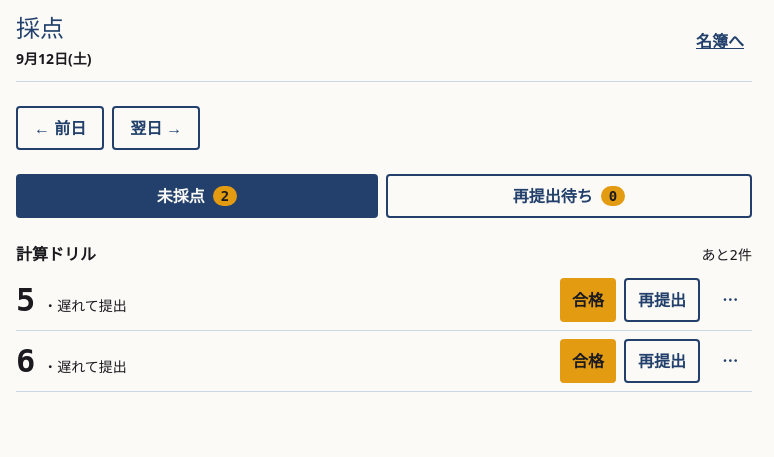
it: 採点画面 › 別の行の「⋯」を押すと前の行の「提出を取り消す」が閉じる
Click the button named "8月24日(月)の5番（計算ドリル）のその他の操作" at (730, 300), box x1=708 y1=278 x2=752 y2=322
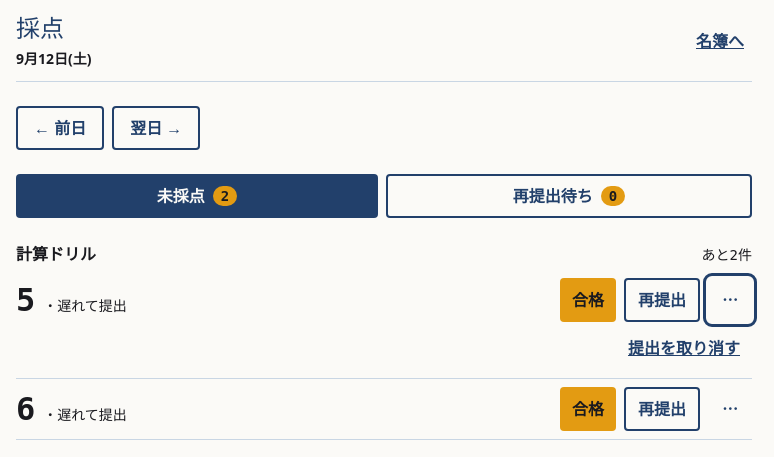
Expected: the button with aria-label "8月24日(月)の5番（計算ドリル）の提出を取り消す" is shown, x1=616 y1=326 x2=752 y2=370
Click the button named "8月24日(月)の6番（計算ドリル）のその他の操作" at (730, 409), box x1=708 y1=387 x2=752 y2=431
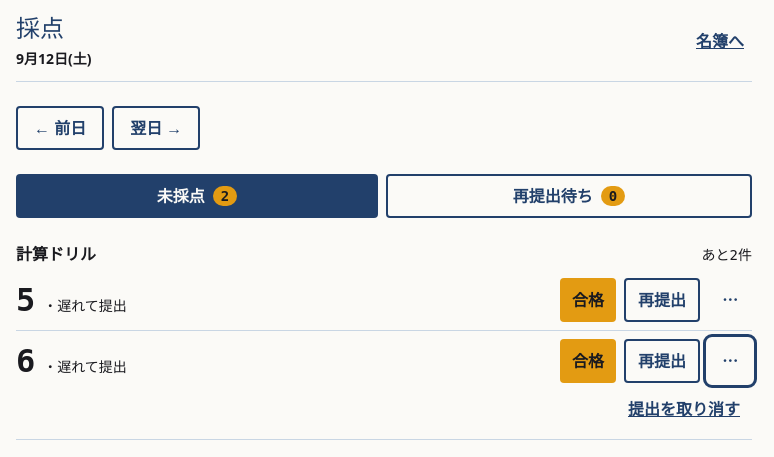
Expected: the button "8月24日(月)の5番（計算ドリル）の提出を取り消す" is gone
Expected: the button with aria-label "8月24日(月)の6番（計算ドリル）の提出を取り消す" is shown, x1=616 y1=387 x2=752 y2=431
